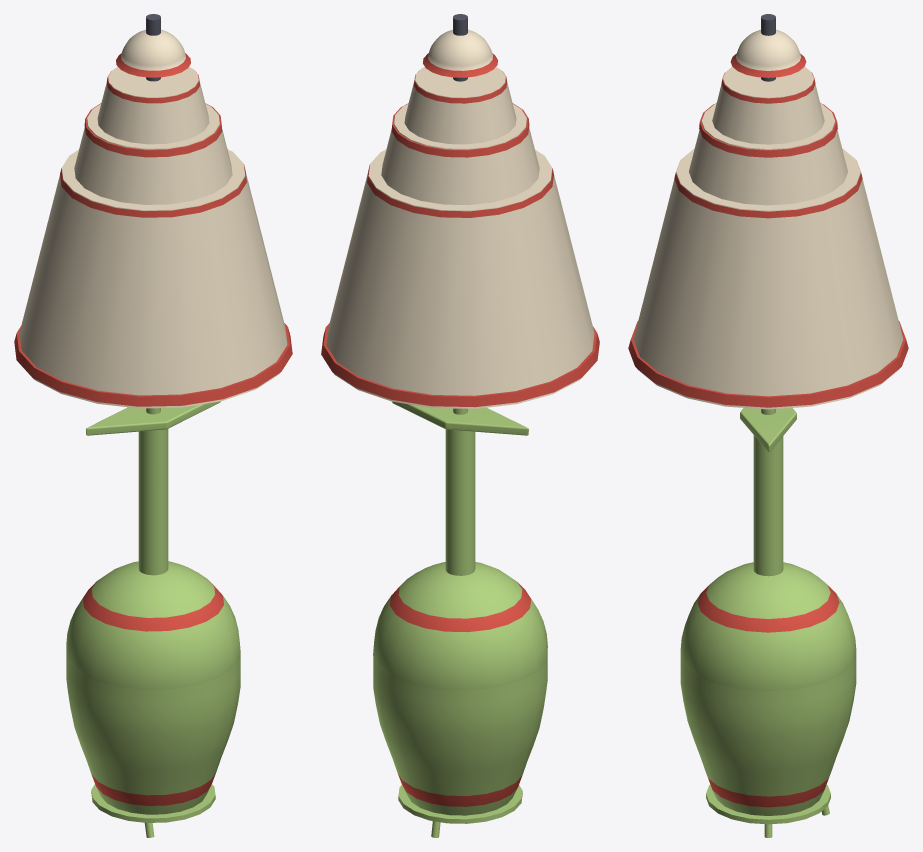
Rendered from lampara.obj.
3 views of the same model, side by side, from view 1: azimuth 30°, elevation 25°; view 2: azimuth 150°, elevation 25°; view 3: azimuth 270°, elevation 25° (orthographic).
Parts seen in each view (by area): view 1: group5_pasted__pCylinder1; view 2: group5_pasted__pCylinder1; view 3: group5_pasted__pCylinder1.
Part boxes in pixels (x1,y1,x2,y2): group5_pasted__pCylinder1: (14, 14, 292, 837); group5_pasted__pCylinder1: (321, 14, 599, 837); group5_pasted__pCylinder1: (628, 14, 908, 837).
Bounding box in the file's own units: 0.3941 × 1.24 × 0.3941.
